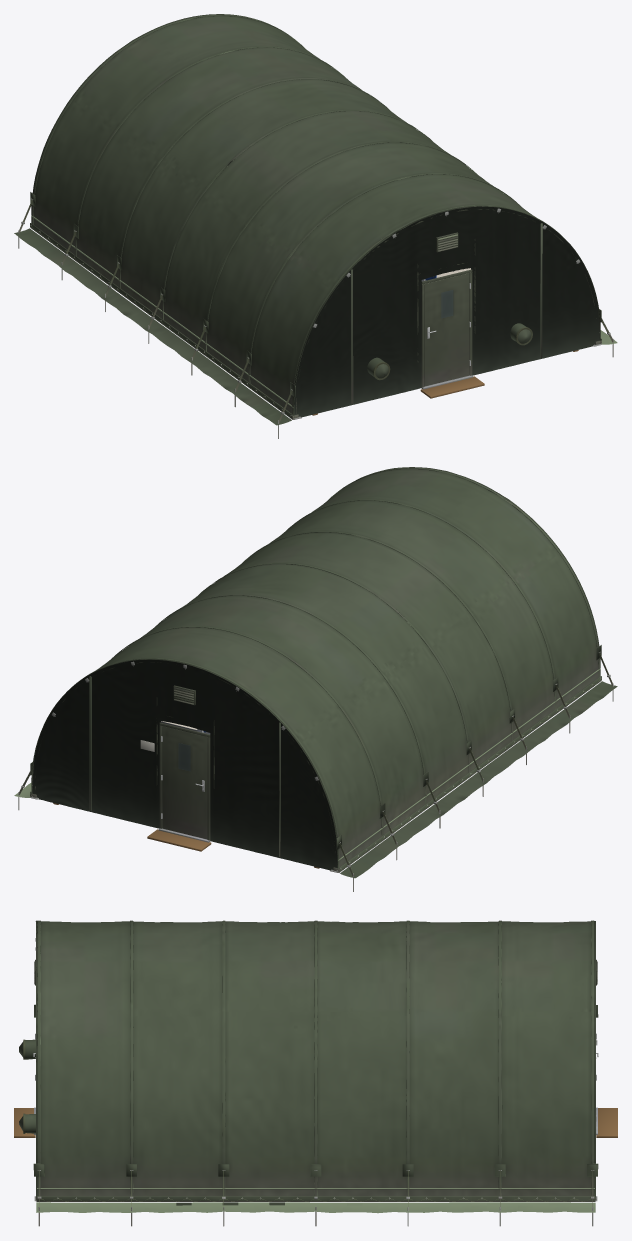
Rendered from mts-deployed-fitted.glb.
3 views of the same model, one above another, from view 1: azimuth 30°, elevation 25°; view 2: azimuth 150°, elevation 25°; view 3: azimuth 270°, elevation 25° (orthographic). The views are drawn at different scales.
Visible parts, largest first — view 1: MTS_shelter, MTS_floor, MTS_frame; view 2: MTS_shelter, MTS_floor; view 3: MTS_shelter, MTS_floor.
Boxes of the visible parts, x1,y1,x2,y2 form: MTS_shelter: (14, 14, 617, 438); MTS_floor: (312, 350, 578, 415); MTS_frame: (293, 208, 601, 419); MTS_shelter: (14, 467, 617, 891); MTS_floor: (53, 803, 319, 868); MTS_shelter: (19, 920, 598, 1226); MTS_floor: (14, 1108, 617, 1137).
Bounding box in the file's own units: 6.94 × 3.66 × 9.98.
41 materials, 15 textured.
